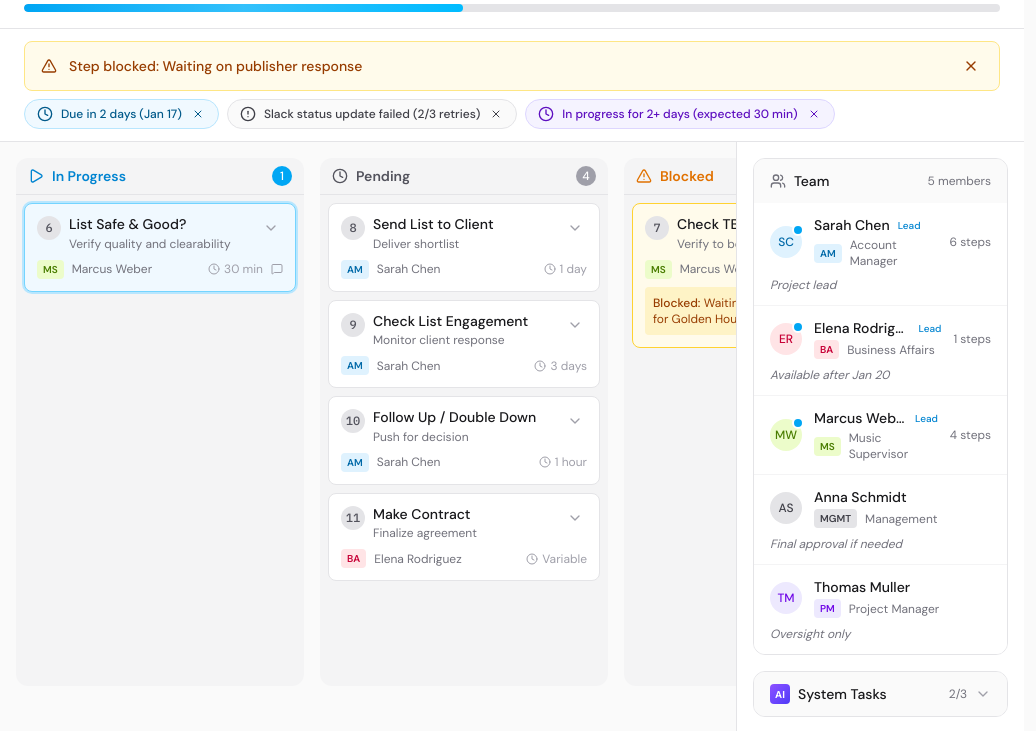
Test: System Task Tests › should display outputs for successful tasks
This screenshot has width=1036, height=731.
(page scrolled)
Expand system tasks section
Click the button "AI System Tasks 2/3". click: (880, 694)
box: [754,672,1007,716]
(page scrolled)
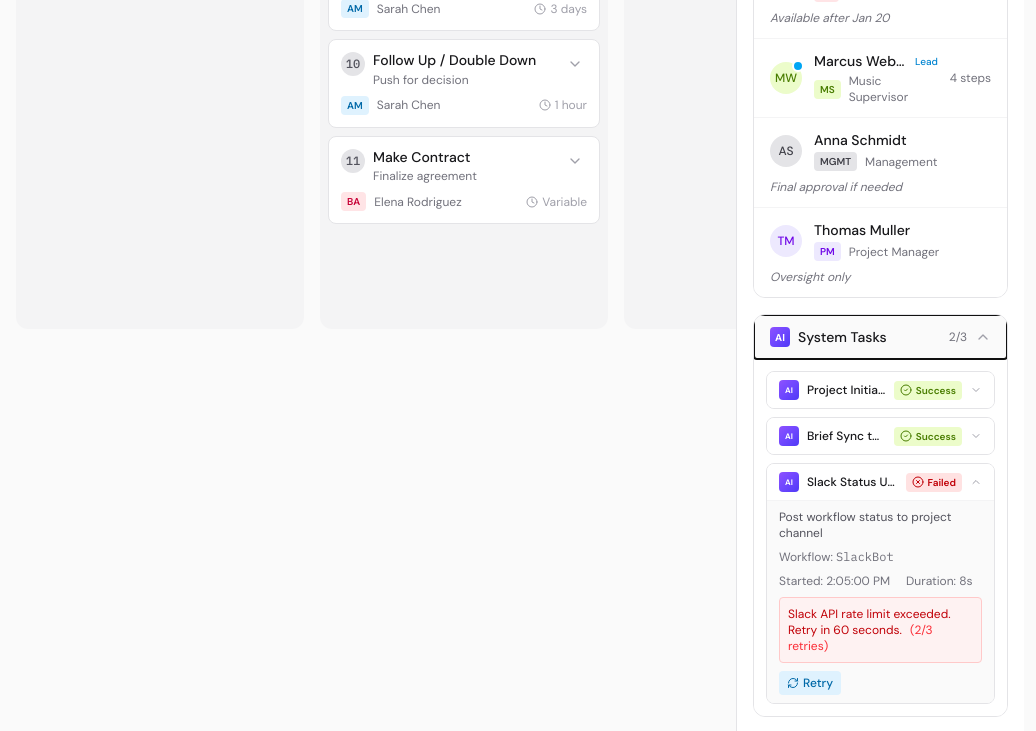
Click the button "AI Project Initialization Success". click: (880, 390)
box: [767,372,994,408]
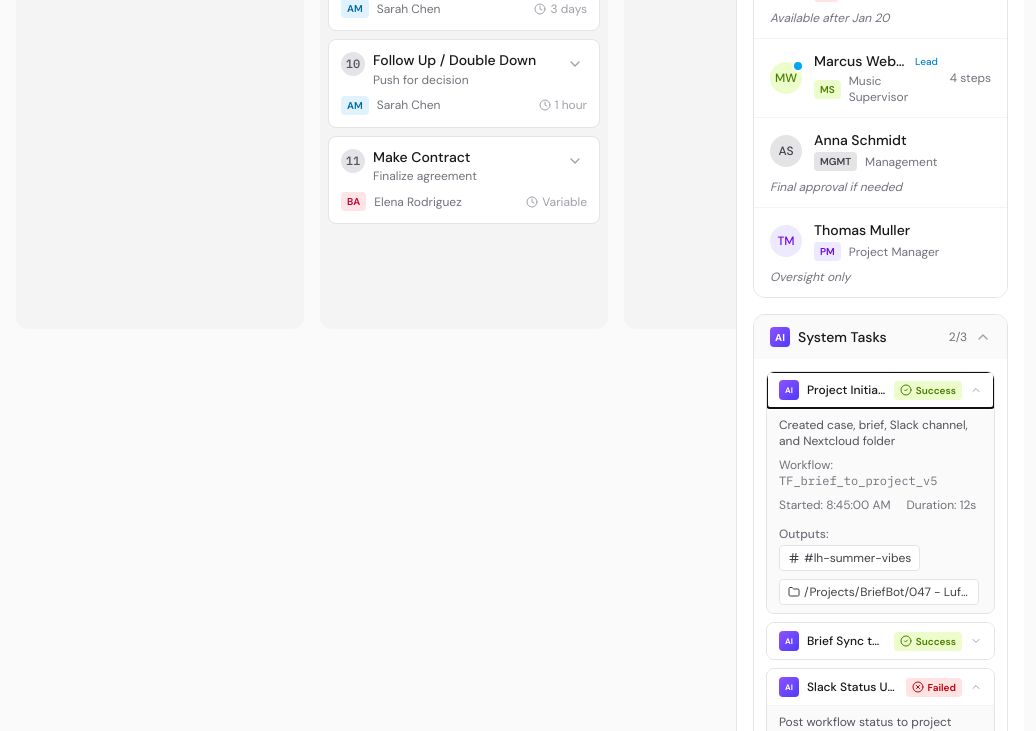
expect the text "#lh-summer-vibes" is shown: met, box [779,545,920,571]
